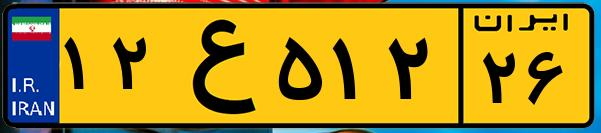1: (330, 28, 385, 110), (57, 26, 110, 100)
2: (385, 28, 445, 110), (475, 38, 525, 113), (110, 28, 158, 98)
5: (270, 28, 330, 110)
6: (525, 38, 570, 115)
ع: (158, 12, 270, 120)
